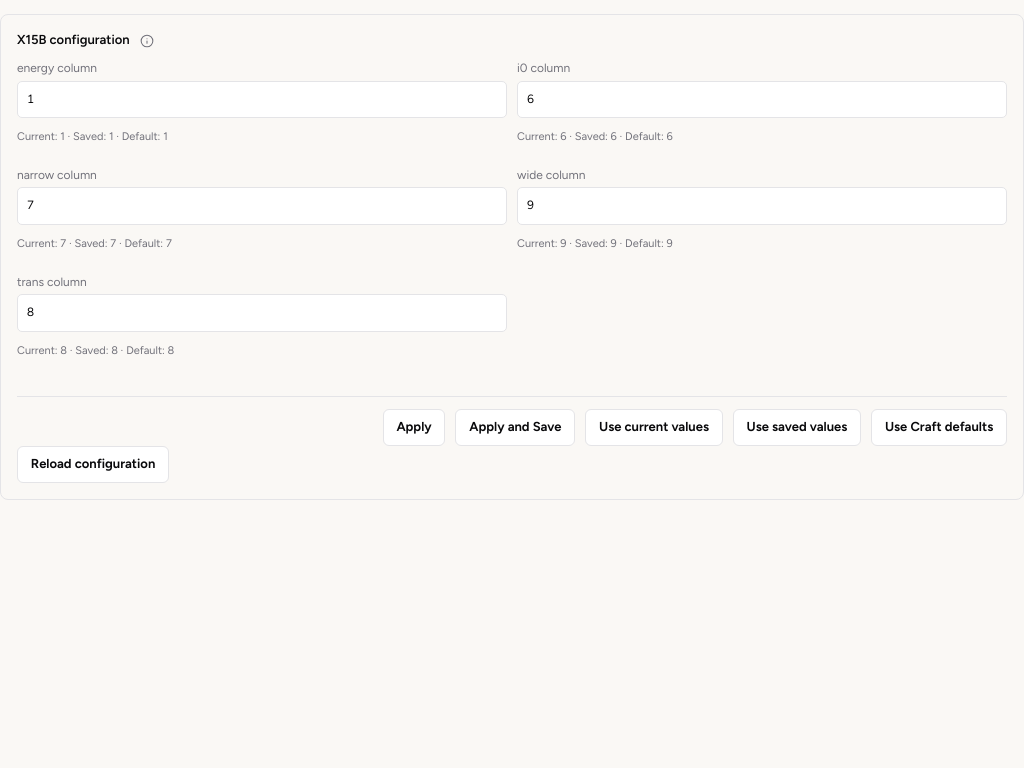
Scenario: blocks invalid binary source column 0 before applying
Replace the text in the number field labelled "i0 column" with "0". click: (762,99)
box: [517,81,1007,118]
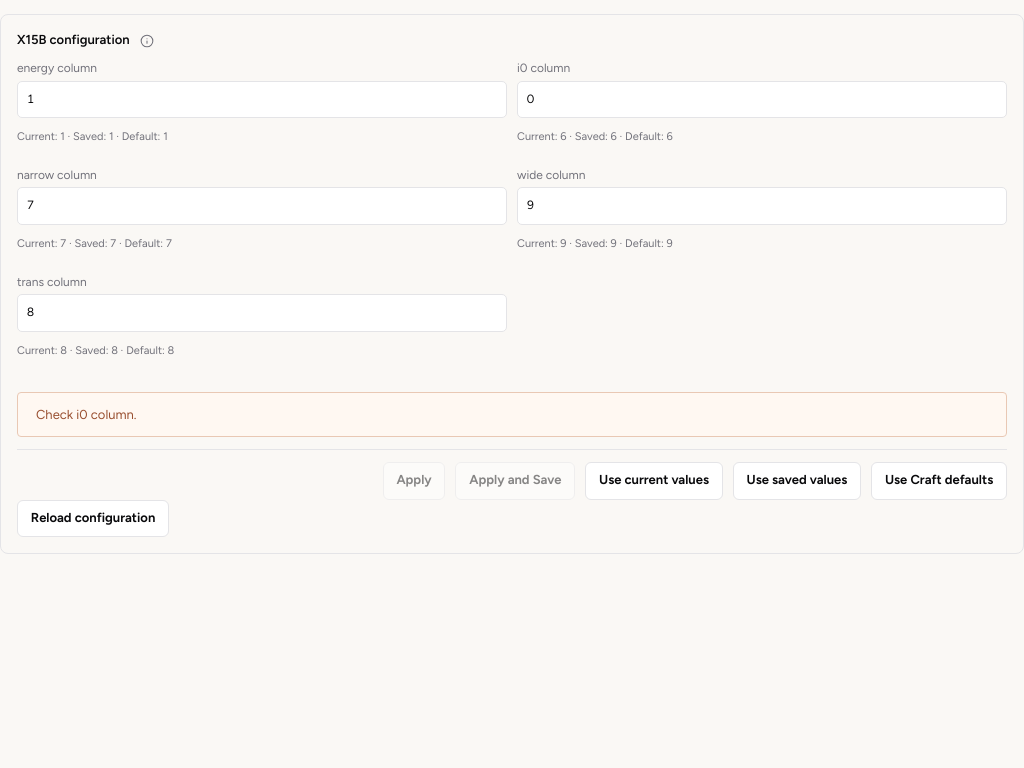
Expected: the message shows "Check i0 column", [36,407,136,422]
Expected: the button "Apply" is disabled, [383,462,446,500]
Expected: the button "Apply and Save" is disabled, [456,462,575,500]
